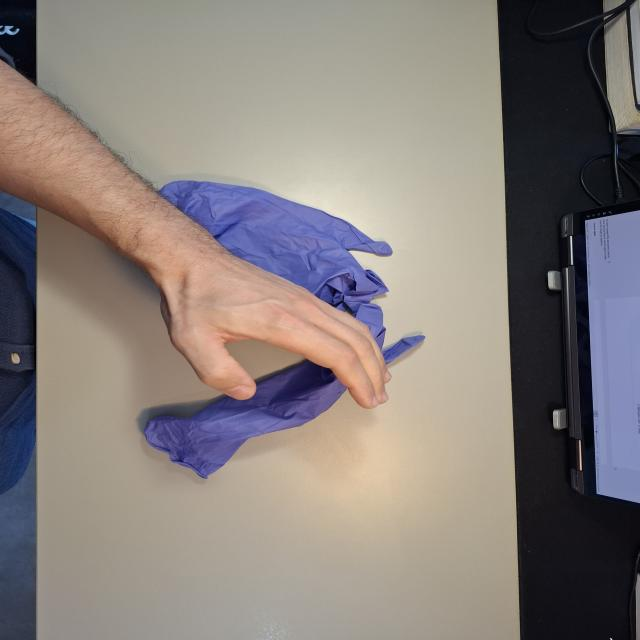glove_off: (154, 253, 395, 411)
